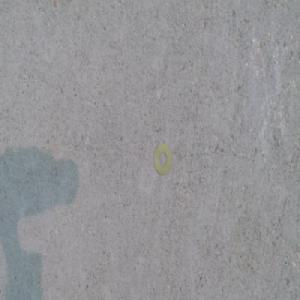Washer: (154, 143, 173, 177)
